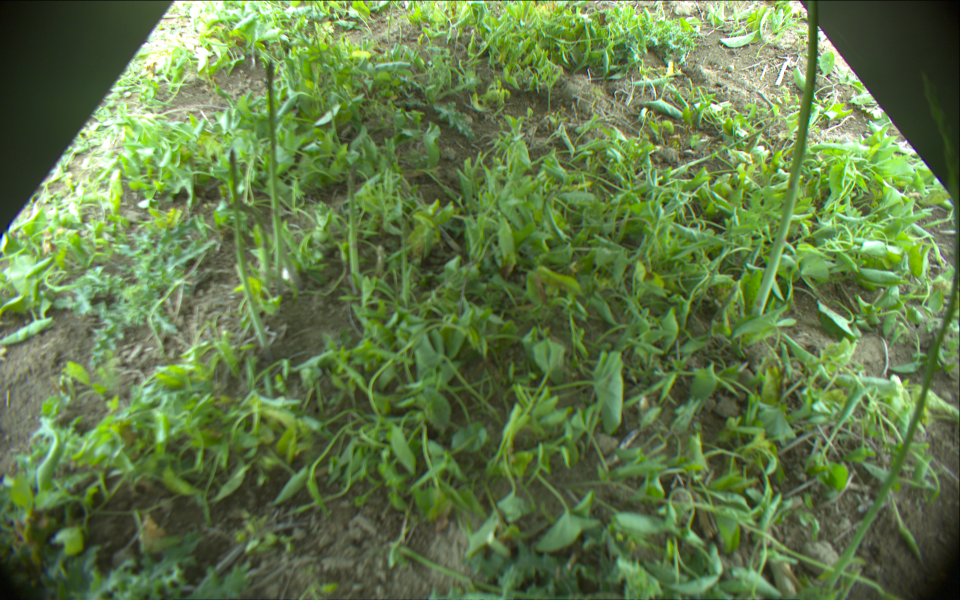aspa: (820, 68, 960, 592), (751, 1, 820, 318), (226, 149, 270, 348), (265, 58, 285, 278), (346, 166, 360, 293)
